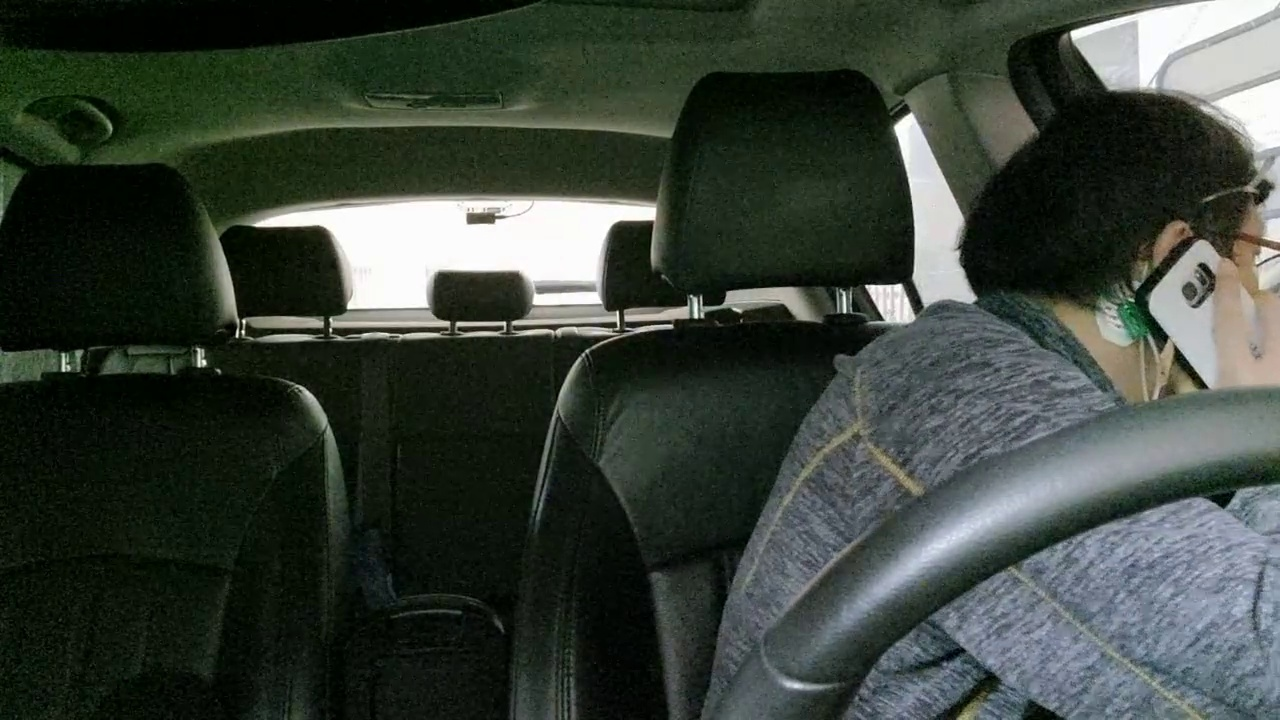phone: (1089, 204, 1280, 406)
